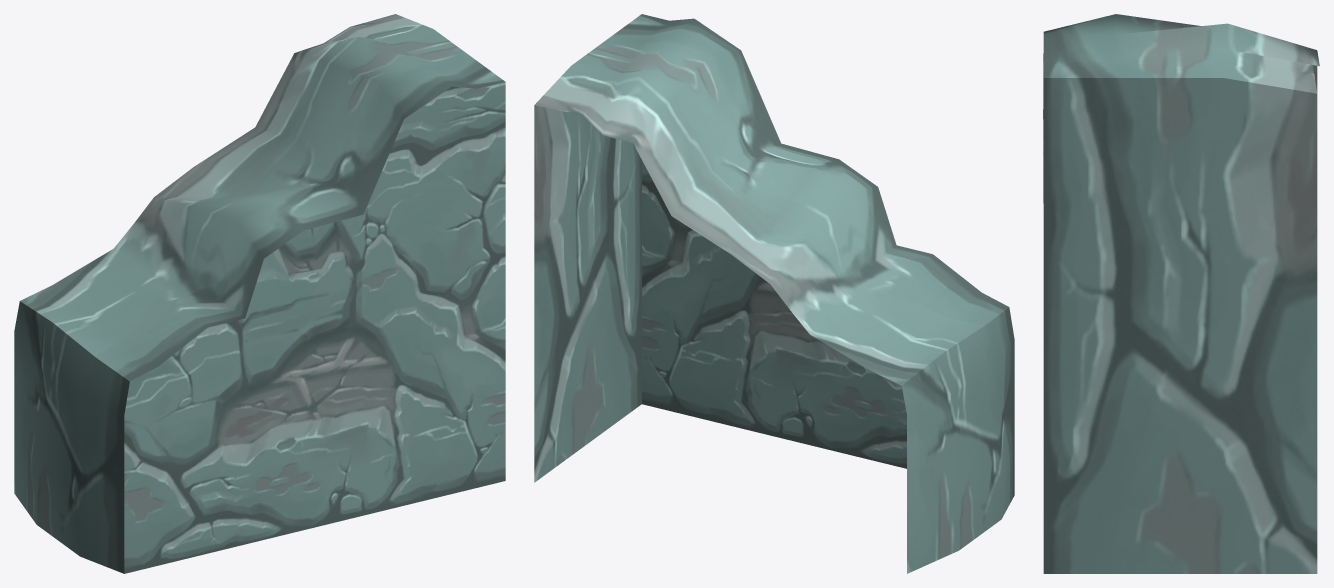
Rendered from broken_wall3.fbx.
3 renders of one model, left to right at view 1: azimuth 30°, elevation 25°; view 2: azimuth 150°, elevation 25°; view 3: azimuth 270°, elevation 25°, orthographic. The views are drawn at different scales.
Parts seen in each view (by area): view 1: Broken_wall3; view 2: Broken_wall3; view 3: Broken_wall3.
Part boxes in pixels (x1,y1,x2,y2): Broken_wall3: (14,14,505,573); Broken_wall3: (534,14,1014,573); Broken_wall3: (1043,14,1319,573).
Size of the model in its own units: 2.08 by 2.04 by 1.01.
